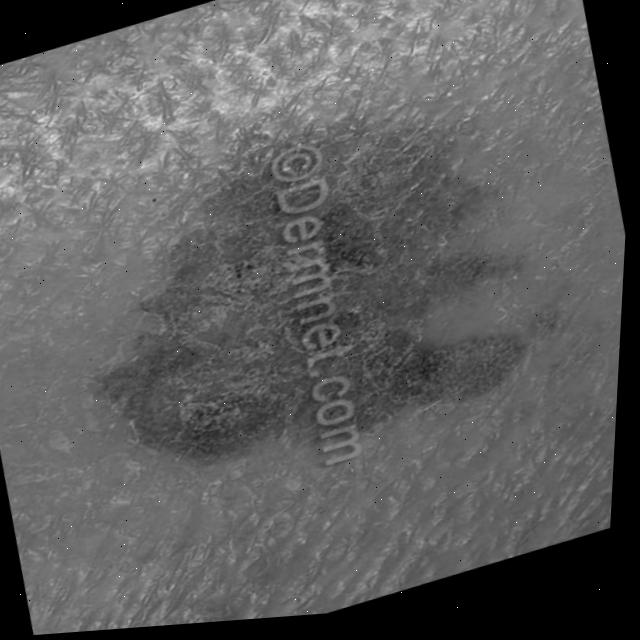Eczema: (86, 128, 531, 516)
